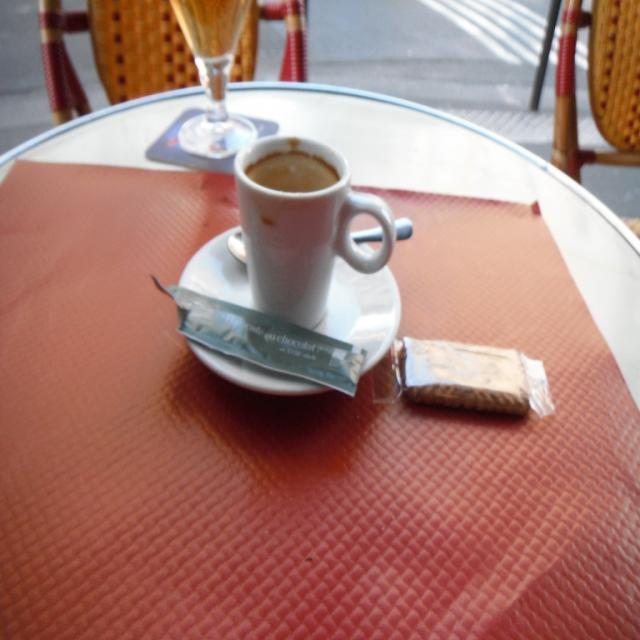Coffee: (248, 152, 334, 192)
Tea: (243, 138, 336, 193)
